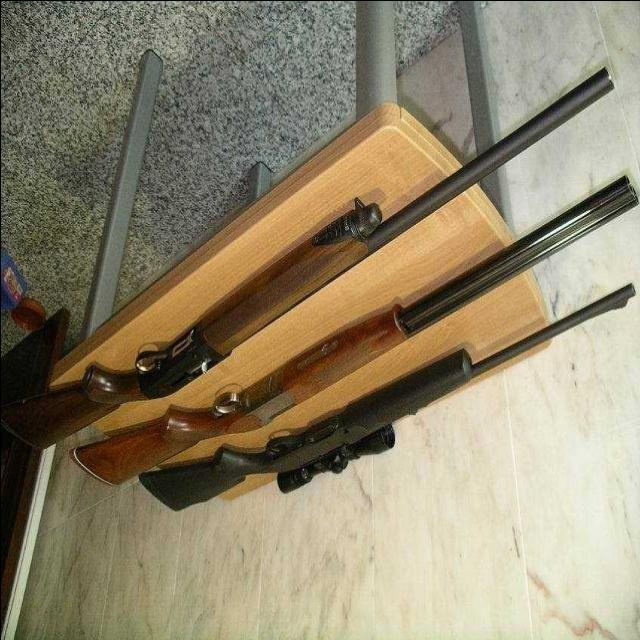heavyweapon: (4, 53, 619, 469)
